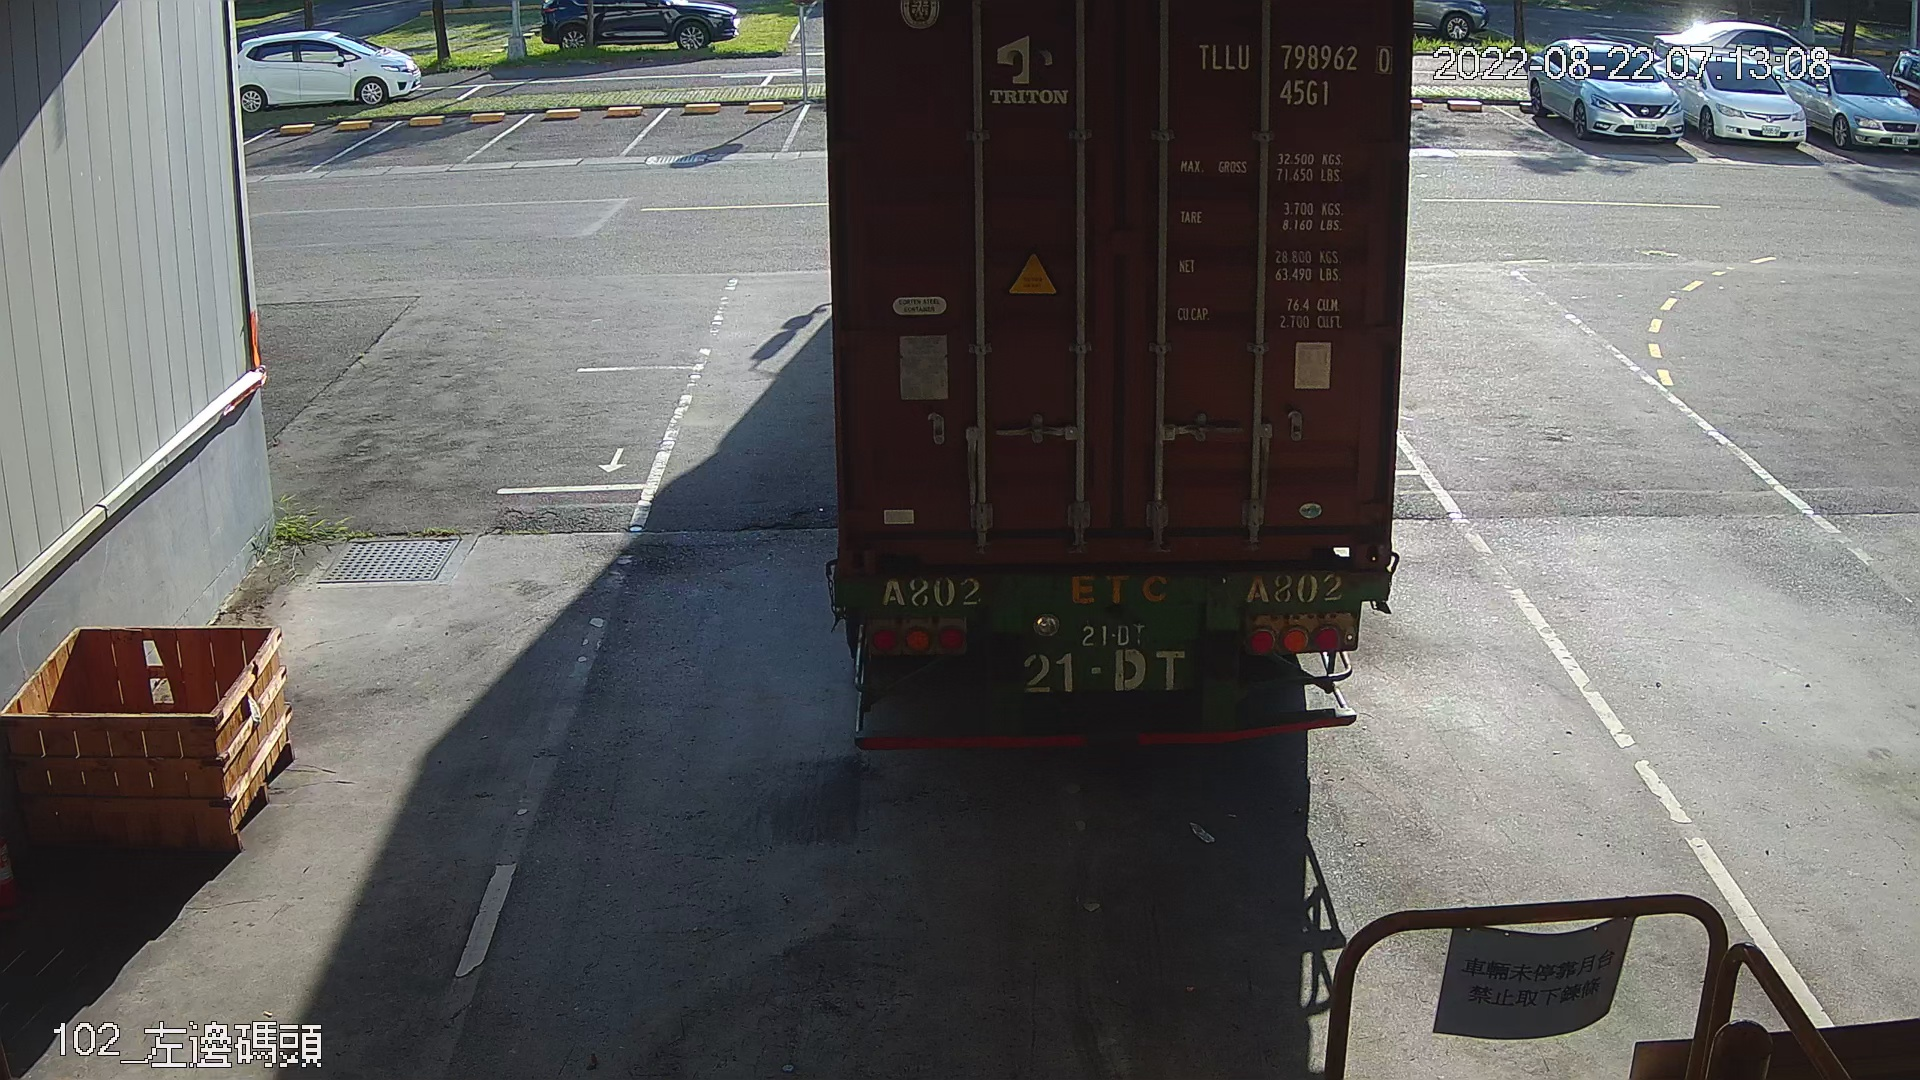container: (1187, 30, 1403, 113)
